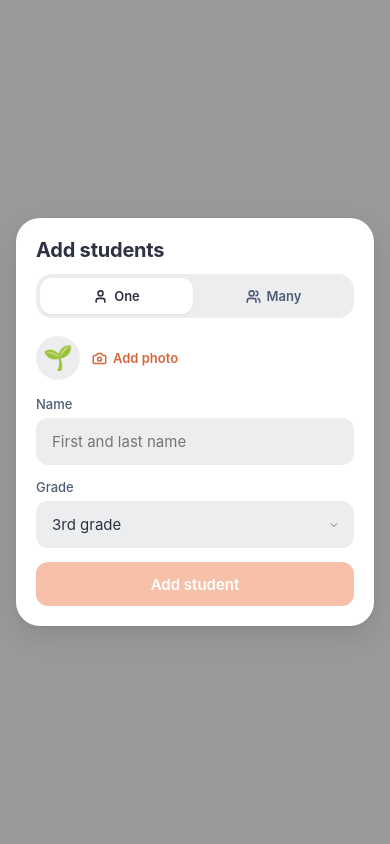
Test: AddStudentModal — paste list › keeps the add button disabled until there is at least one name
Click the button "Many". click: (274, 296)
box: x1=197 y1=278 x2=350 y2=314
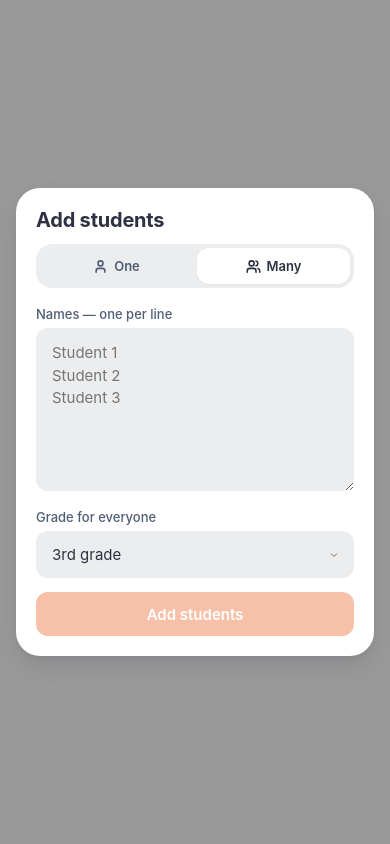
Expected: the button "Add students" is disabled, x1=36 y1=592 x2=354 y2=636
